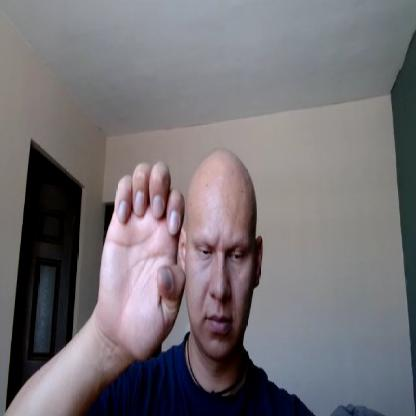E: (97, 160, 190, 362)
